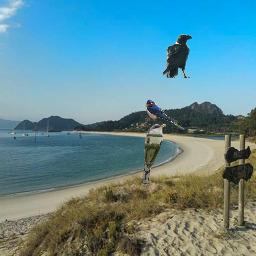Crow: (162, 34, 193, 78)
Cuckoo: (142, 124, 166, 185)
Swallow: (145, 99, 184, 130)
